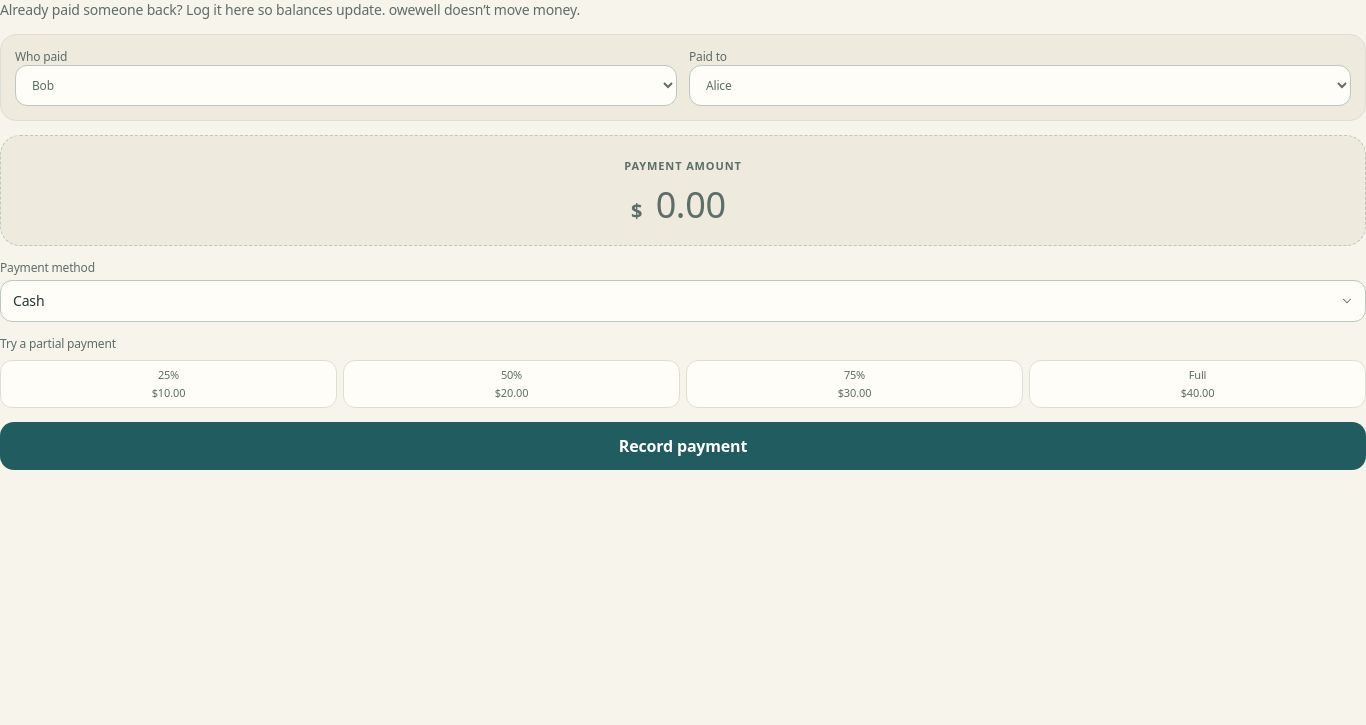
the amount field › tidies a half-typed amount on blur, like every other money input
Type "8.5" into the field named "Amount" at {"x": 691, "y": 204}, box [646,184,735,224]
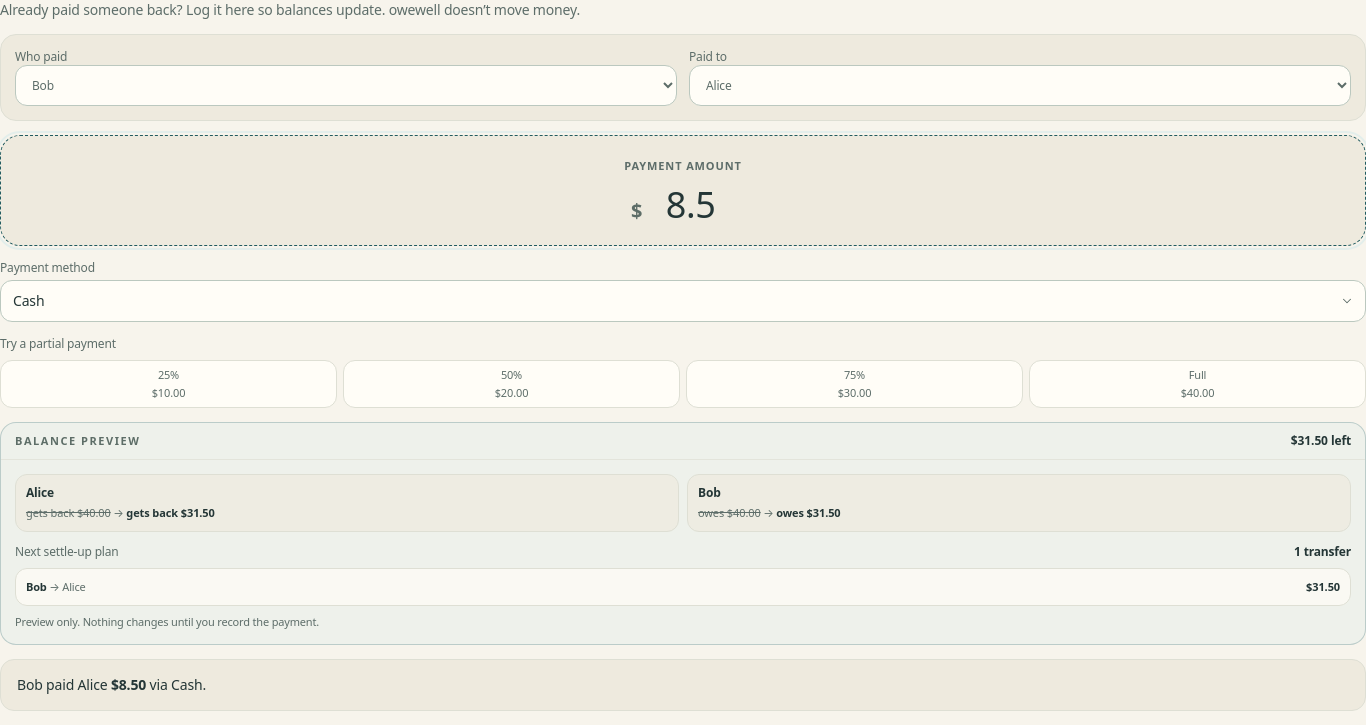
Press Tab
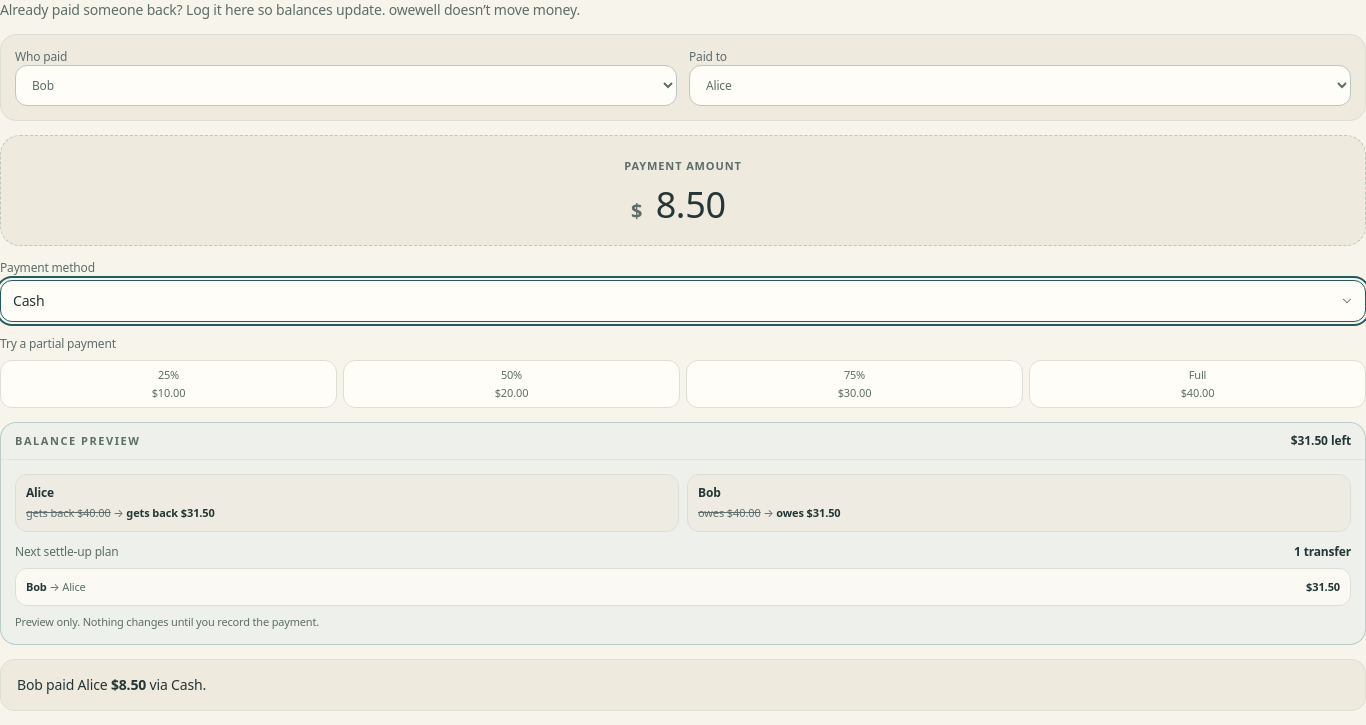
Expected: the field named "Amount" holds "8.50", [646,184,735,224]
